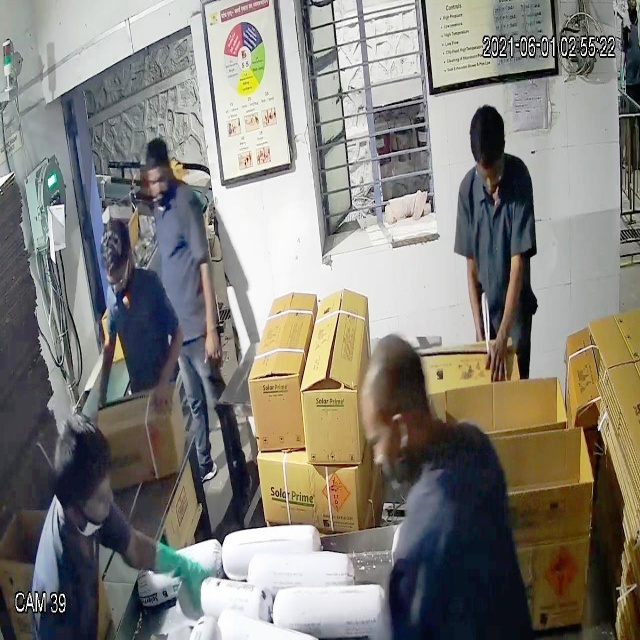Gafas: (102, 260, 133, 298)
